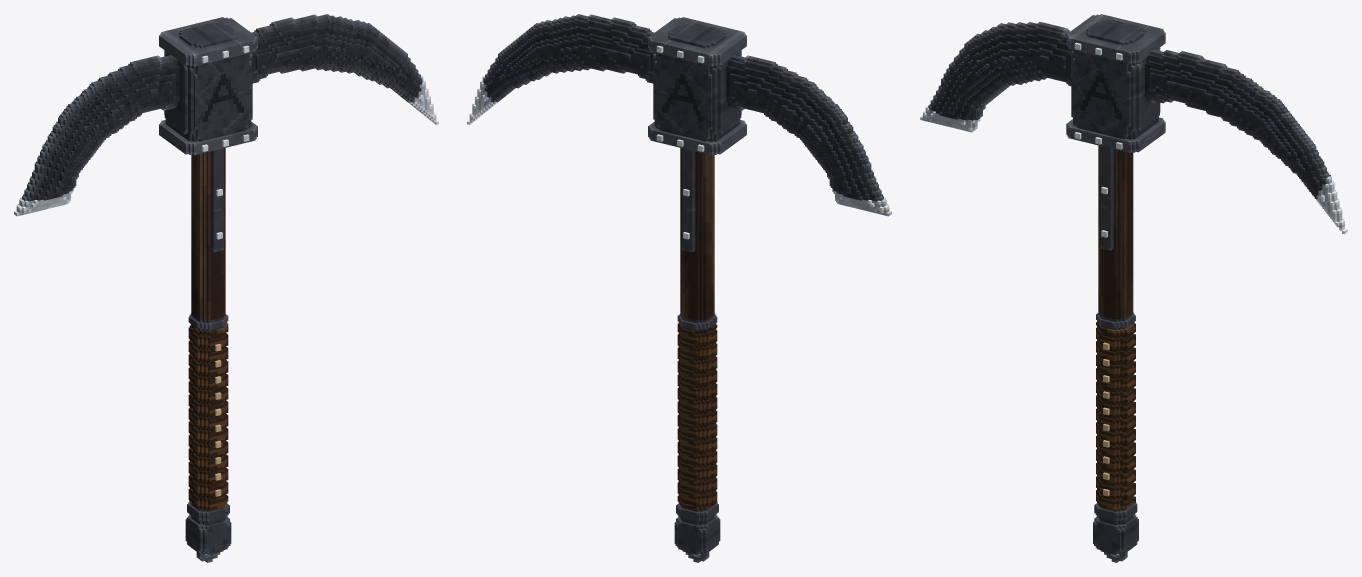
Rendered from PiocheFer.fbx.
3 views of the same model, side by side, from view 1: azimuth 30°, elevation 25°; view 2: azimuth 150°, elevation 25°; view 3: azimuth 330°, elevation 25° (orthographic).
Parts seen in each view (by area): view 1: PiocheFer_Tete_FerNoir, PiocheFer_Manche_Cuir, PiocheFer_Manche_Bois, PiocheFer_Manche_FerNoir, PiocheFer_Tete_Acier; view 2: PiocheFer_Tete_FerNoir, PiocheFer_Manche_Cuir, PiocheFer_Manche_Bois, PiocheFer_Manche_FerNoir, PiocheFer_Tete_Acier; view 3: PiocheFer_Tete_FerNoir, PiocheFer_Manche_Cuir, PiocheFer_Manche_Bois, PiocheFer_Manche_FerNoir, PiocheFer_Tete_Acier.
Part boxes in pixels (x1,y1,x2,y2): PiocheFer_Tete_FerNoir: (22, 14, 422, 252); PiocheFer_Manche_Cuir: (188, 323, 228, 510); PiocheFer_Manche_Bois: (191, 148, 225, 502); PiocheFer_Manche_FerNoir: (185, 313, 231, 562); PiocheFer_Tete_Acier: (14, 45, 438, 239); PiocheFer_Tete_FerNoir: (483, 14, 883, 252); PiocheFer_Manche_Cuir: (677, 323, 717, 509); PiocheFer_Manche_Bois: (680, 148, 714, 509); PiocheFer_Manche_FerNoir: (674, 313, 720, 562); PiocheFer_Tete_Acier: (467, 45, 891, 239); PiocheFer_Tete_FerNoir: (928, 14, 1330, 250); PiocheFer_Manche_Cuir: (1096, 321, 1135, 509); PiocheFer_Manche_Bois: (1098, 145, 1133, 502); PiocheFer_Manche_FerNoir: (1093, 312, 1138, 562); PiocheFer_Tete_Acier: (920, 42, 1347, 237).
Size of the model in its own units: 6.56 by 7.84 by 0.96.
